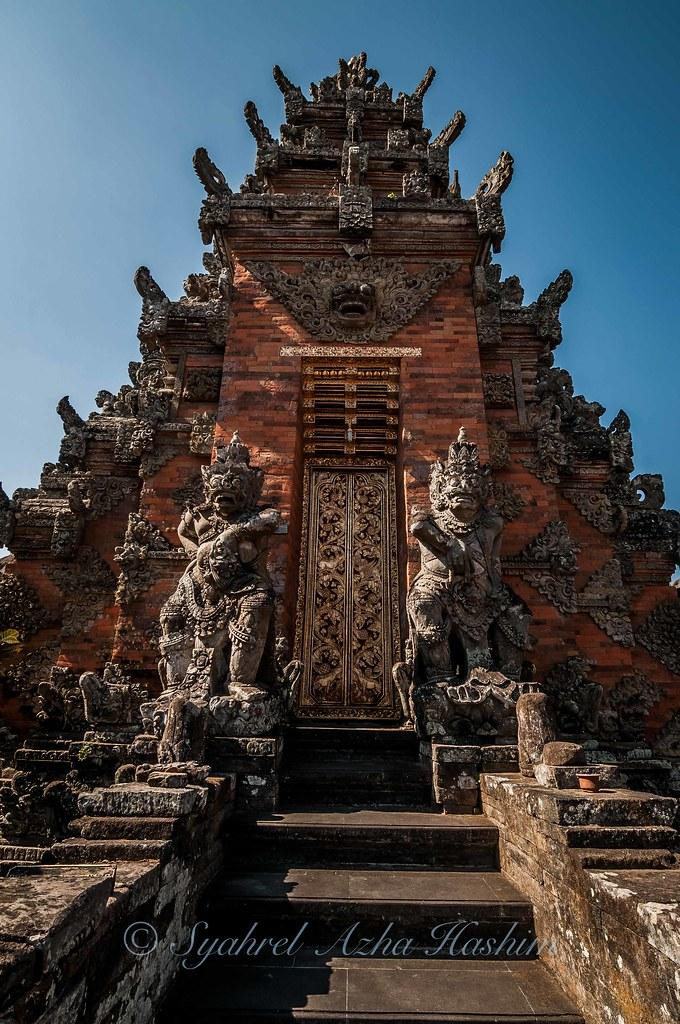temple: (2, 50, 679, 1021)
